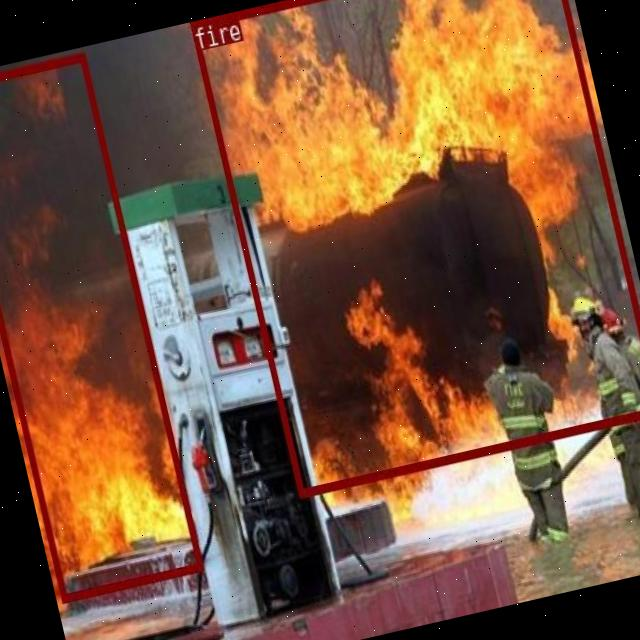fire: (188, 0, 640, 497), (0, 51, 202, 601)
